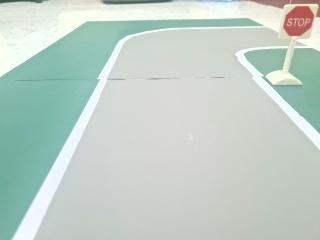stop: (277, 0, 320, 43)
